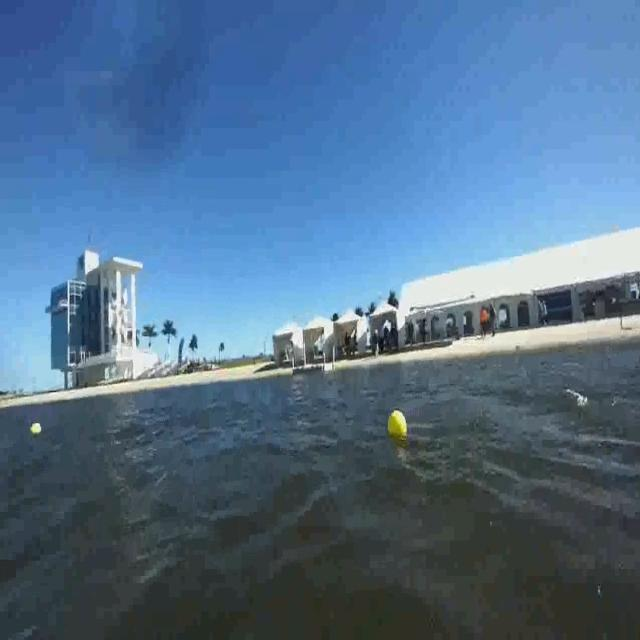yellow-buoy: (386, 409, 406, 438), (31, 420, 43, 438)
